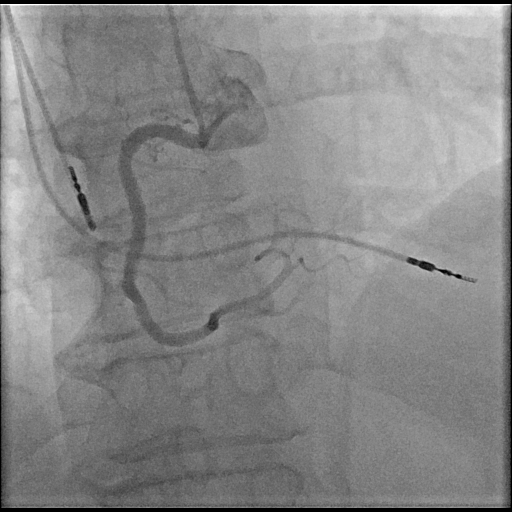RCA: (119, 123, 292, 346)
catherter: (166, 8, 207, 136)
